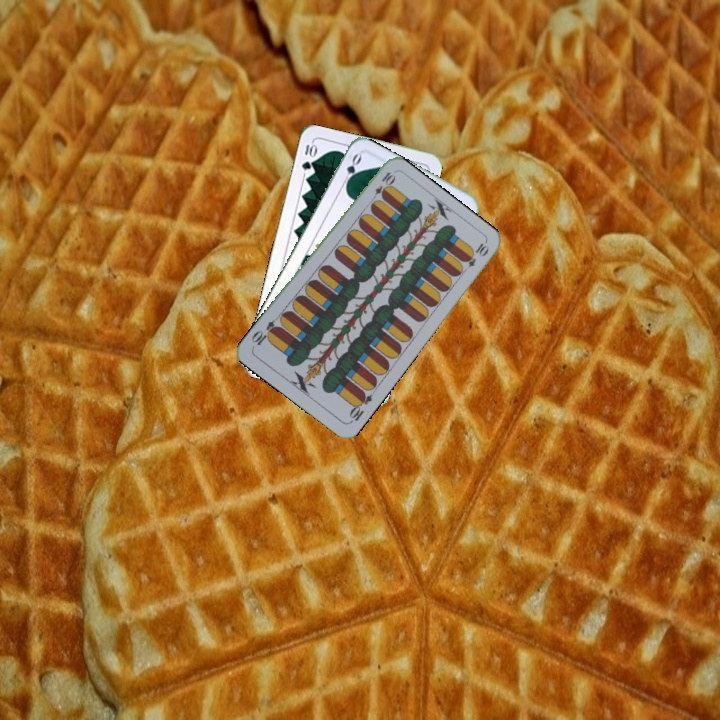E10: (345, 387, 375, 426), (367, 168, 397, 205)
G10: (297, 139, 319, 173)
GO: (338, 150, 364, 190)
